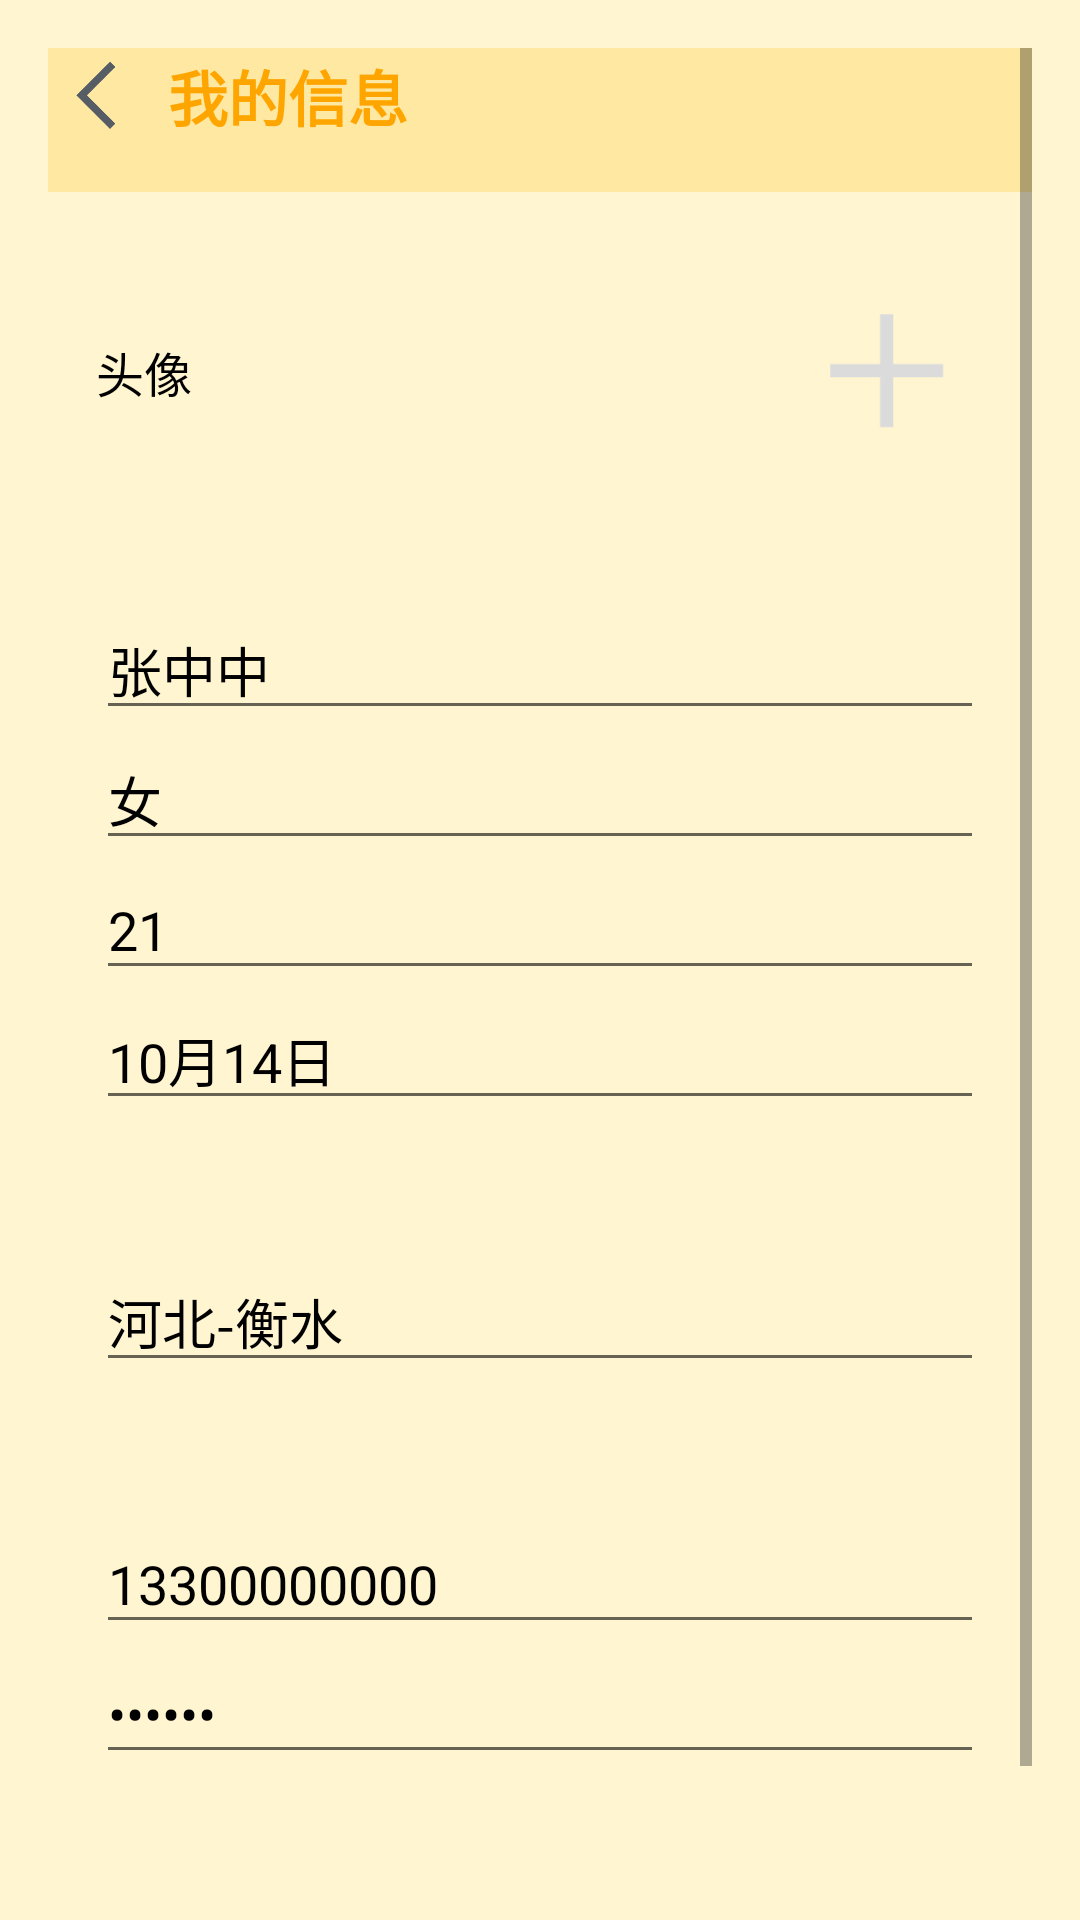

Icons on this 1080x1920 Android screen, each with its box as (x1, y1, x2, y2):
返回: (76, 62, 115, 129)
